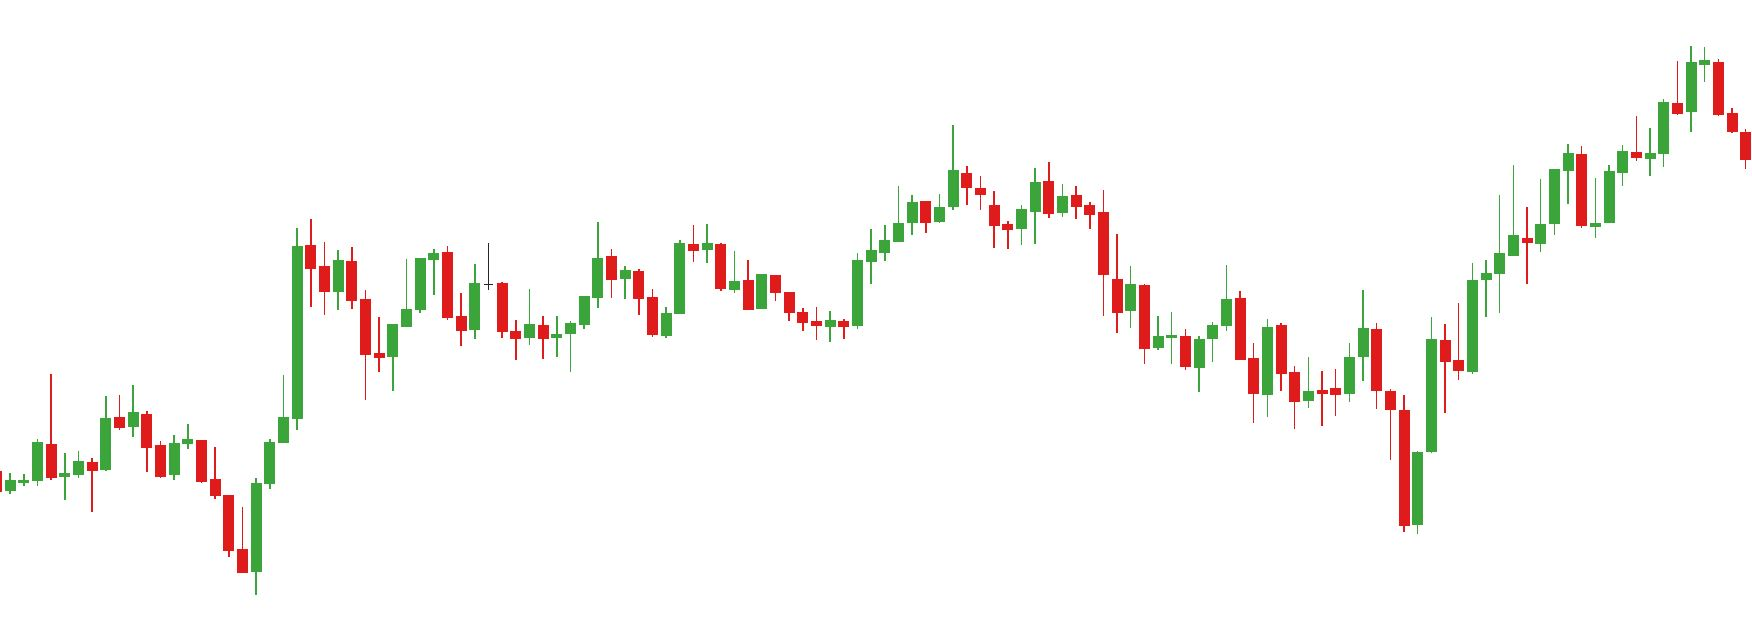buy: (83, 422, 265, 599)
